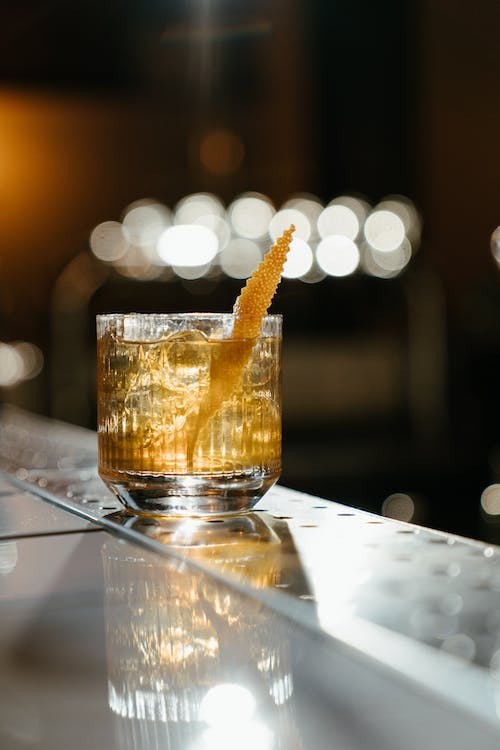alcohol: (92, 310, 285, 521)
